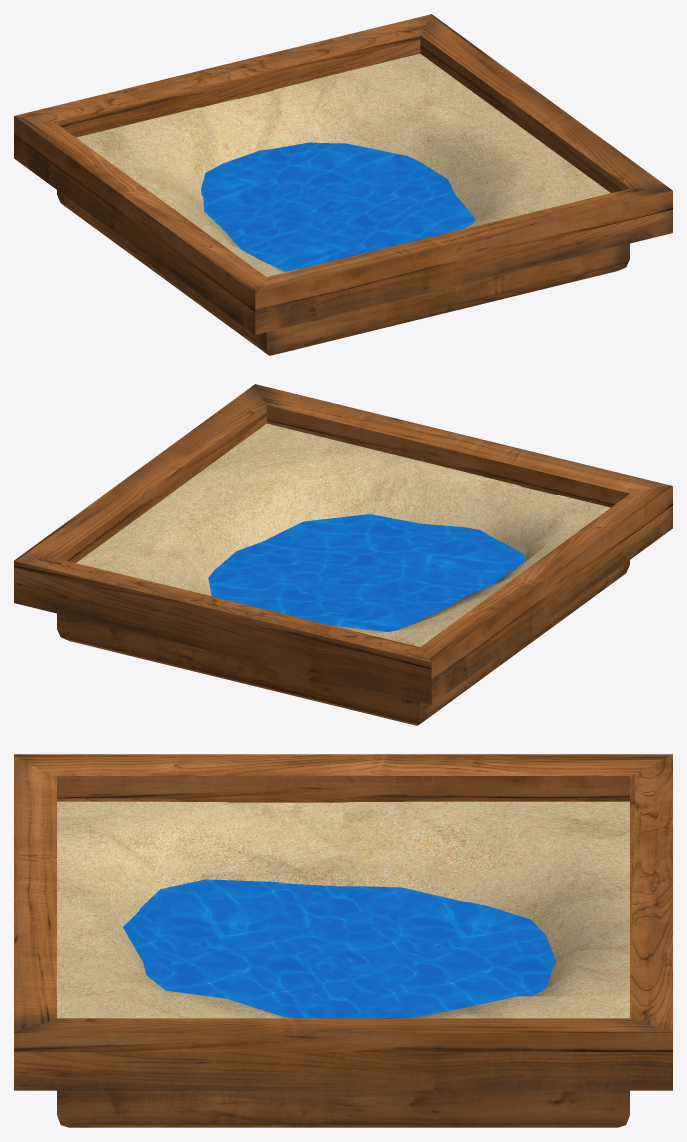
Rendered from Sand04.fbx.
3 views of the same model, one above another, from view 1: azimuth 30°, elevation 25°; view 2: azimuth 150°, elevation 25°; view 3: azimuth 270°, elevation 25° (orthographic). The views are drawn at different scales.
Visible parts, largest first — view 1: polySurface12; view 2: polySurface12; view 3: polySurface12.
Part boxes in pixels (x1,y1,x2,y2): polySurface12: [14, 14, 672, 355]; polySurface12: [14, 384, 672, 725]; polySurface12: [14, 754, 672, 1127].
Bounding box in the file's own units: 23.91 × 6.07 × 23.91.
